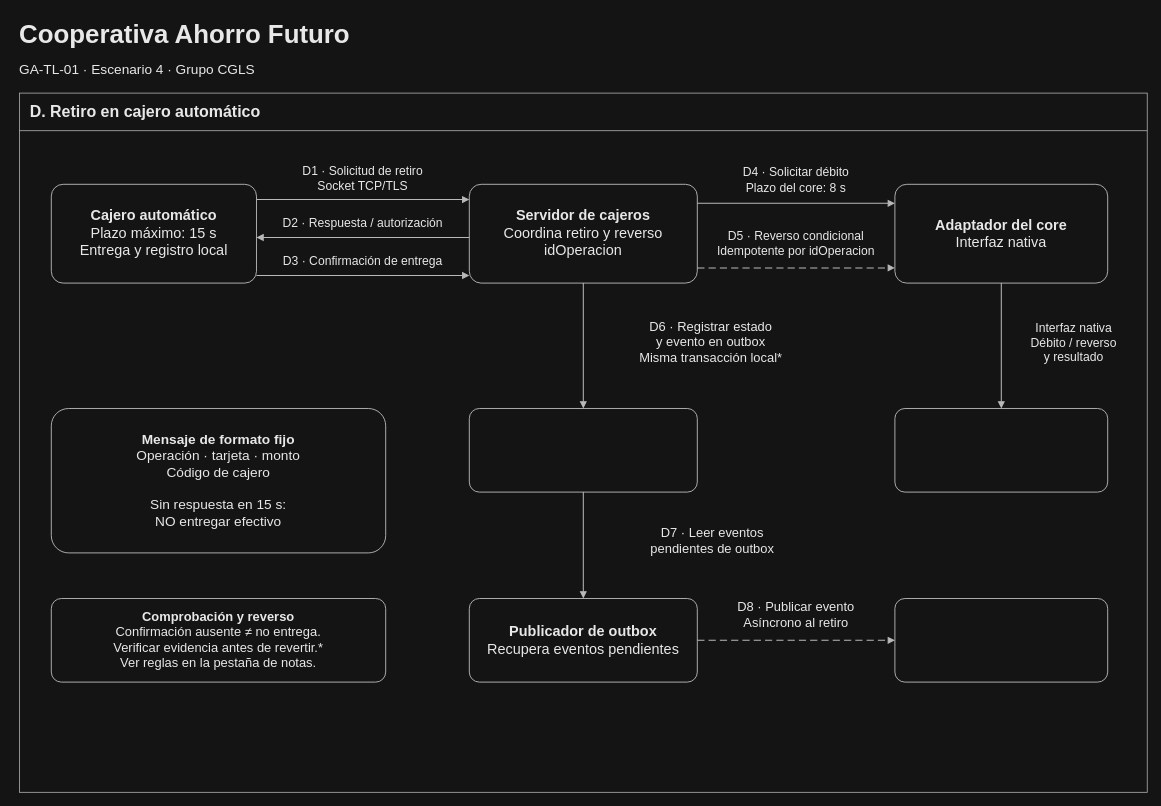
The diagram is 1161 pixels wide and 806 high, and some of its shapes have lost their labels. The box of each missing label's shape, as (x1, y1, x2, y2) in pixels:
Broker único Compartido con A: (894, 598, 1108, 682)
Núcleo bancario heredado Débito, estado* y reverso: (894, 408, 1108, 492)
Registro de retiros Estado + outbox: (468, 408, 697, 492)
